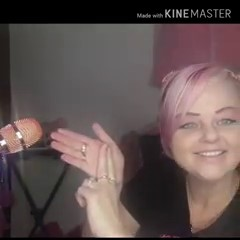N: (44, 119, 143, 235)
